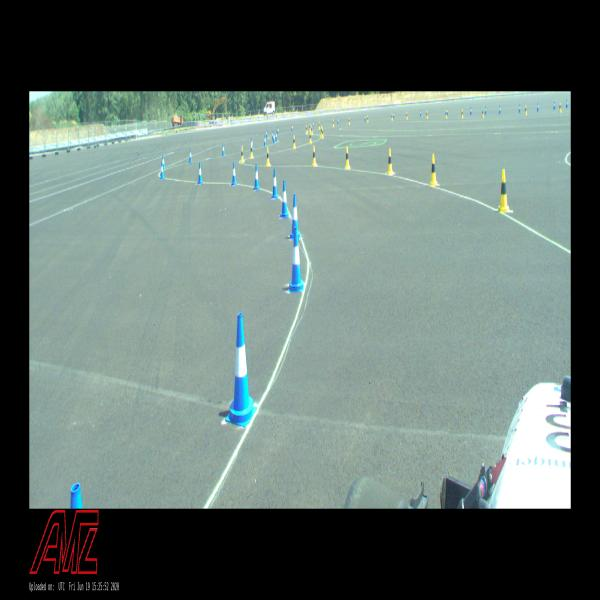blue_cone: (226, 312, 258, 428), (288, 227, 304, 292), (290, 194, 301, 239), (280, 181, 288, 218), (272, 168, 278, 198), (254, 164, 260, 190), (198, 162, 203, 184), (232, 162, 236, 184), (160, 162, 165, 178), (162, 155, 166, 170), (222, 143, 225, 156), (190, 150, 192, 163), (273, 132, 275, 144), (251, 138, 253, 150), (264, 135, 266, 146), (276, 131, 278, 141)
yellow_cone: (499, 169, 509, 212), (430, 154, 437, 185), (387, 149, 394, 174), (345, 146, 350, 169), (312, 146, 317, 166), (266, 147, 270, 166), (250, 143, 254, 158), (241, 147, 244, 162), (293, 135, 296, 148), (309, 132, 312, 143), (559, 102, 562, 112), (321, 128, 324, 138), (525, 105, 527, 115), (306, 125, 308, 134), (462, 109, 464, 118), (366, 116, 369, 122), (445, 110, 447, 118), (482, 109, 484, 117), (406, 112, 408, 120), (391, 113, 393, 120), (426, 111, 428, 118)
